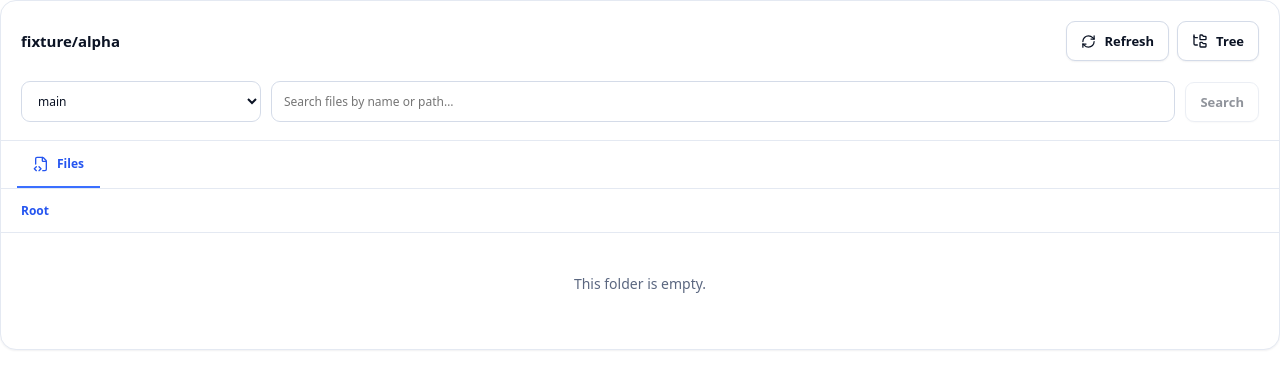
it: changing branches clears search and opens the new branch without reusing the old SHA
Expected: the text "fixture/alpha" is shown, [21, 31, 120, 51]
Type "docs" into the field with placeholder "Search files by name or path…".
click(723, 102); type("docs")  # box [271, 81, 1175, 122]
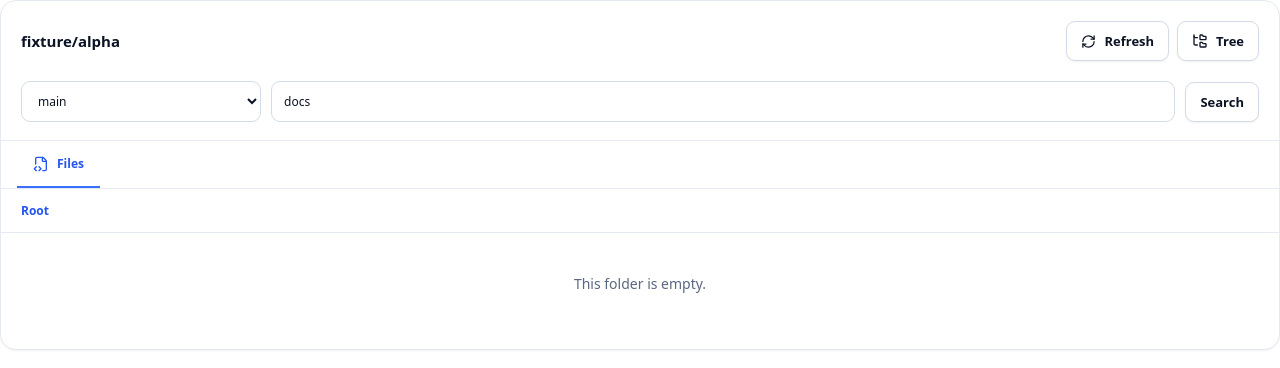
Select "feature/preview" in the dropdown named "Branch" at coordinates (141, 102), box [21, 81, 261, 122]
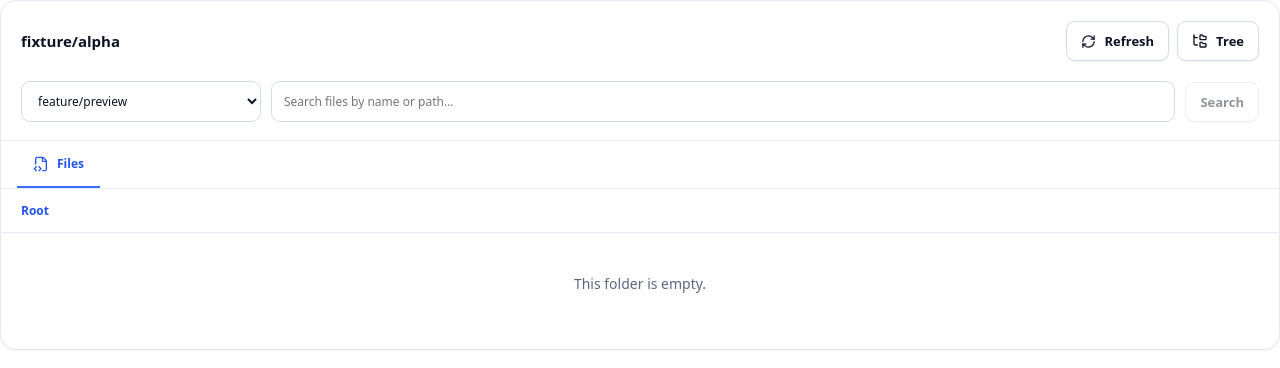
Result: the field labelled "Search files" is empty at [271, 81, 1175, 122]
Result: the dropdown named "Branch" shows "feature/preview" at [21, 81, 261, 122]
